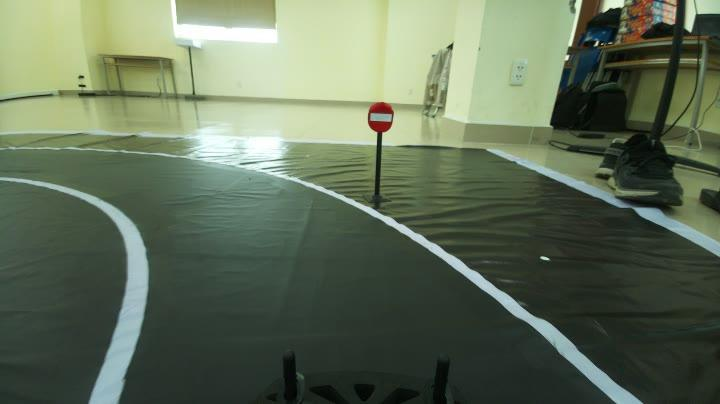no_entry: (360, 102, 402, 134)
